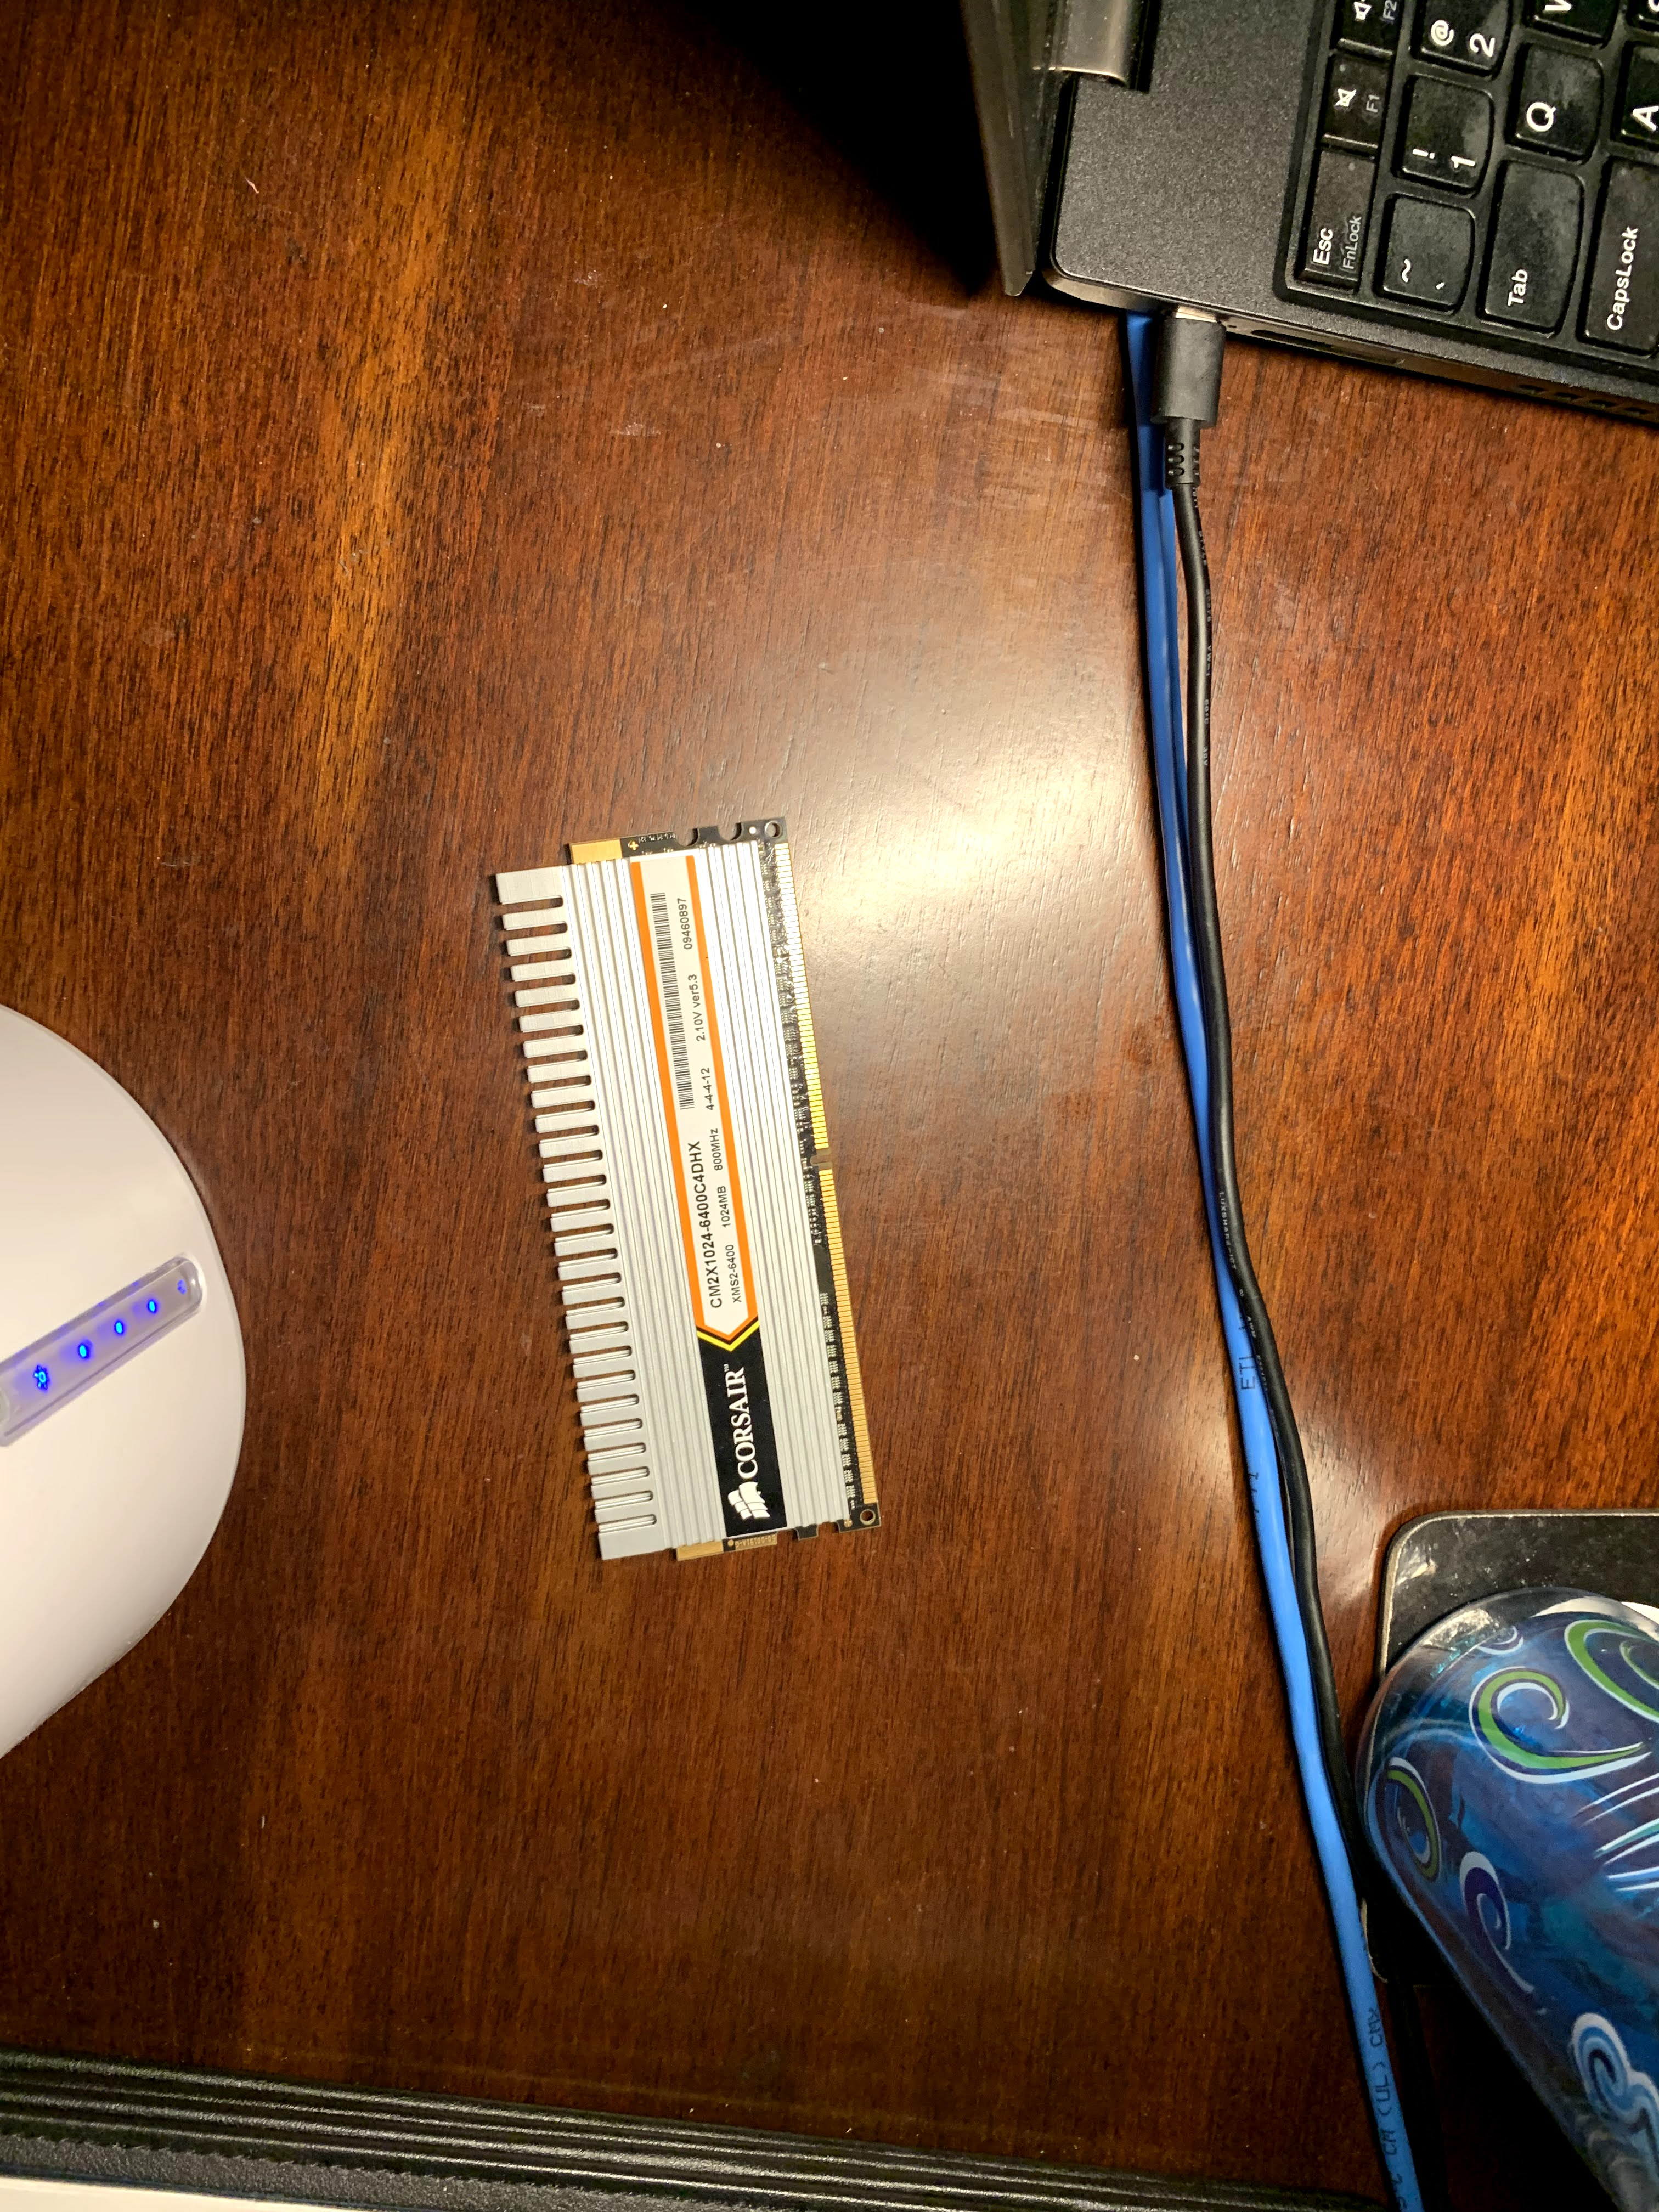Space-debris-medium: (441, 808, 899, 1573)
